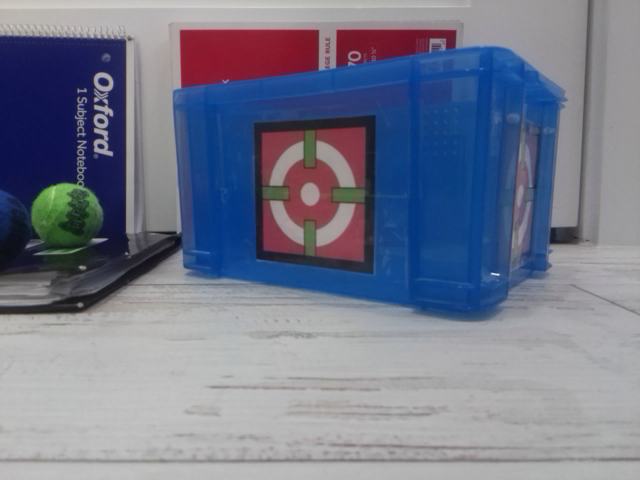drop-bin: (253, 114, 378, 274)
green-ball: (29, 182, 104, 250)
